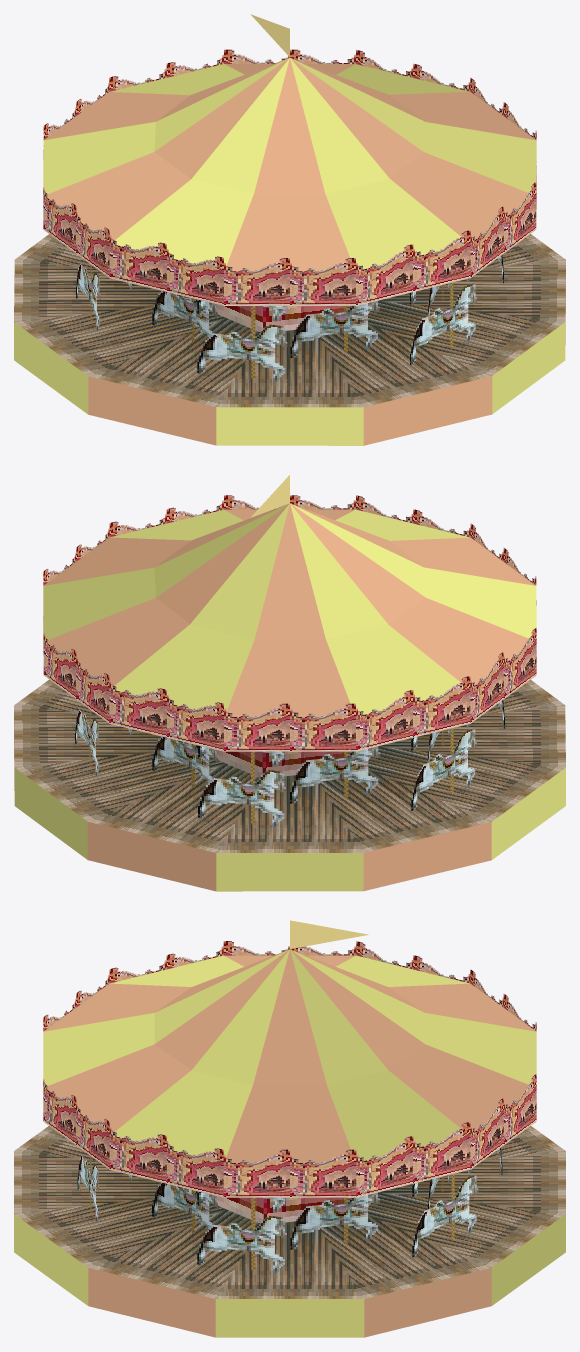
The model's file is uvmd-0016.glb.
3 views of the same model, one above another, from view 1: azimuth 30°, elevation 25°; view 2: azimuth 150°, elevation 25°; view 3: azimuth 270°, elevation 25° (orthographic).
Visible parts, largest first — view 1: uvmd-0016; view 2: uvmd-0016; view 3: uvmd-0016.
Boxes of the visible parts, box(x1,y1,x2,y2) form: uvmd-0016: box(14, 14, 565, 445); uvmd-0016: box(14, 475, 565, 891); uvmd-0016: box(14, 920, 565, 1337).
Bounding box in the file's own units: 208 × 125 × 208.
Materials: 5 (5 with a texture image).
